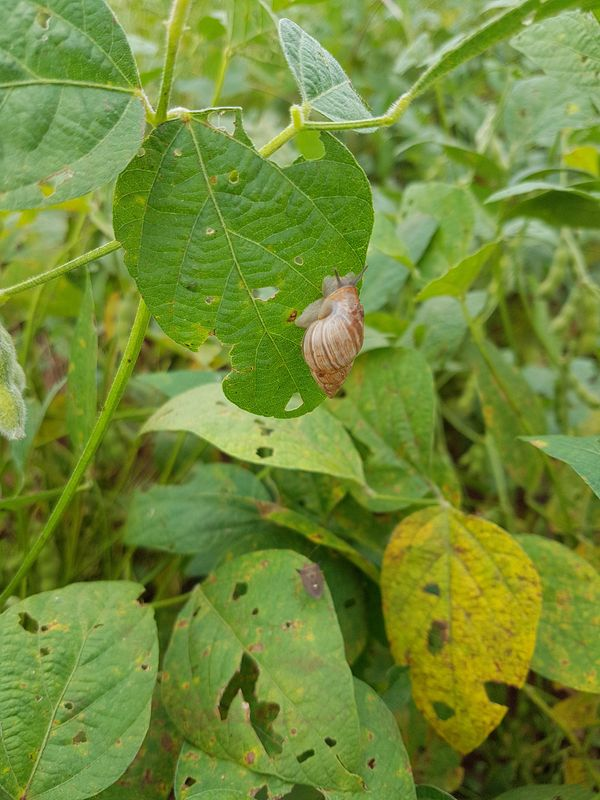Euschistus_heros_adulto: (287, 557, 335, 608)
Gastropoda: (281, 262, 394, 407)
